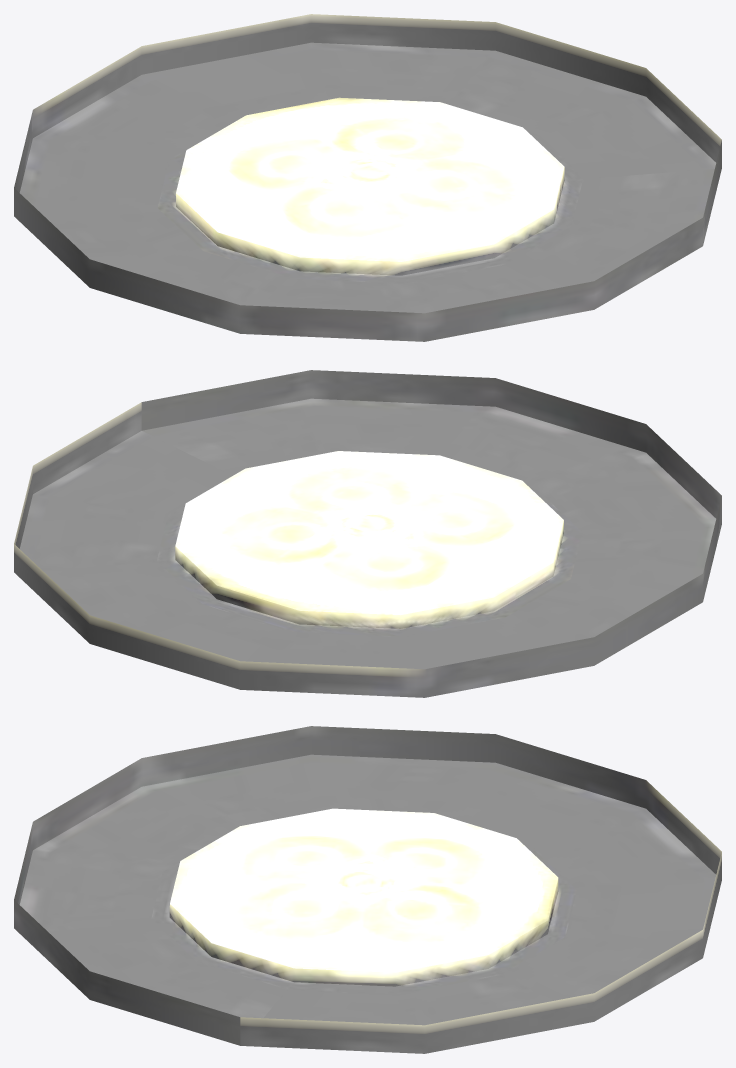
File: SM_Light_Ceiling_02.glb
The picture shows the model from 3 angles, top to bottom: view 1: azimuth 30°, elevation 25°; view 2: azimuth 150°, elevation 25°; view 3: azimuth 270°, elevation 25°; orthographic projection.
Parts seen in each view (by area): view 1: SM_Light_Ceiling_02; view 2: SM_Light_Ceiling_02; view 3: SM_Light_Ceiling_02.
Part boxes in pixels (x1,y1,x2,y2): SM_Light_Ceiling_02: (14,14,721,341); SM_Light_Ceiling_02: (14,370,721,697); SM_Light_Ceiling_02: (14,726,721,1053).
Size of the model in its own units: 0.1169 by 0.00522 by 0.1169.
Materials: 1 (1 with a texture image).
